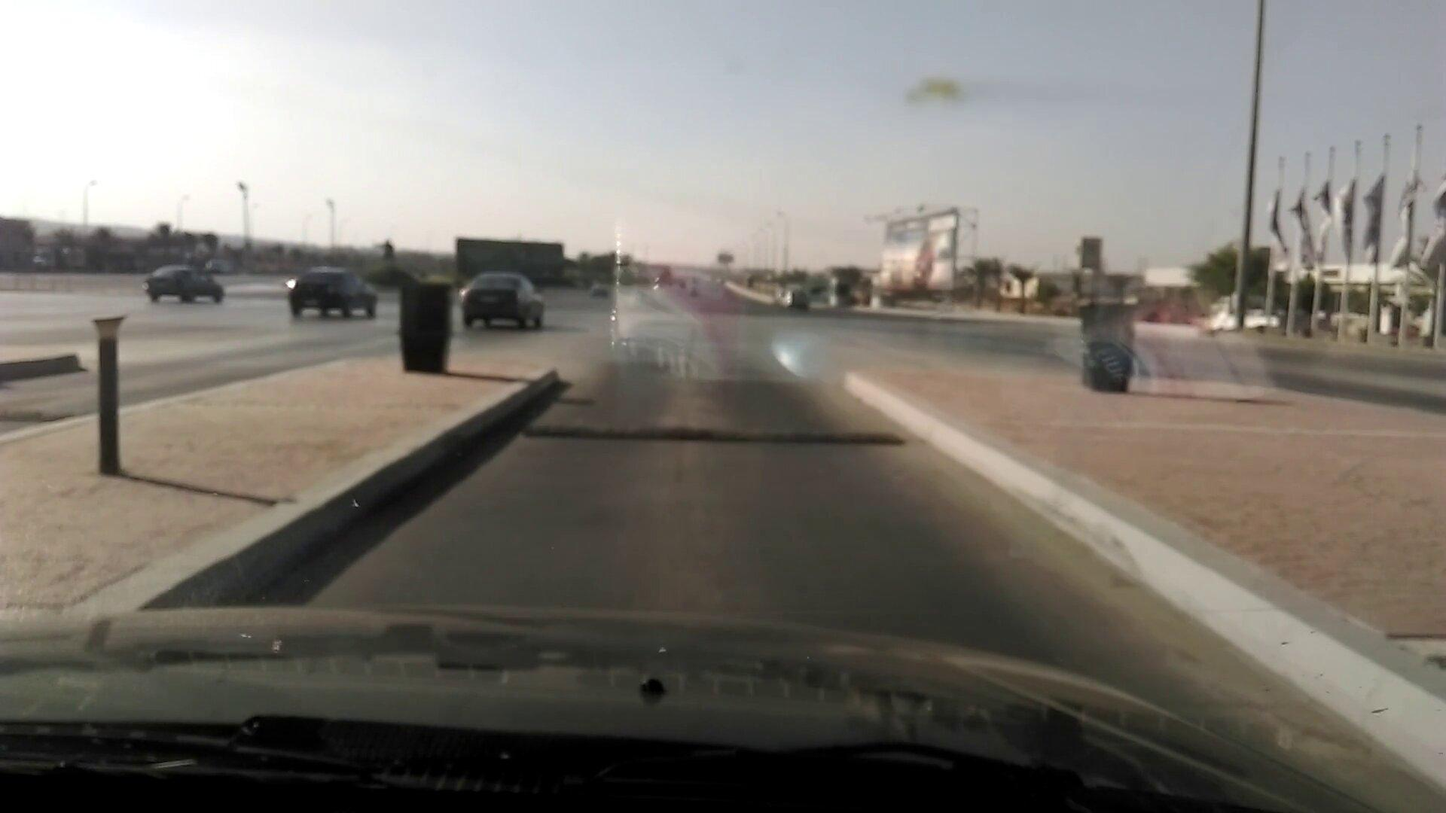Bump: (503, 411, 908, 466)
